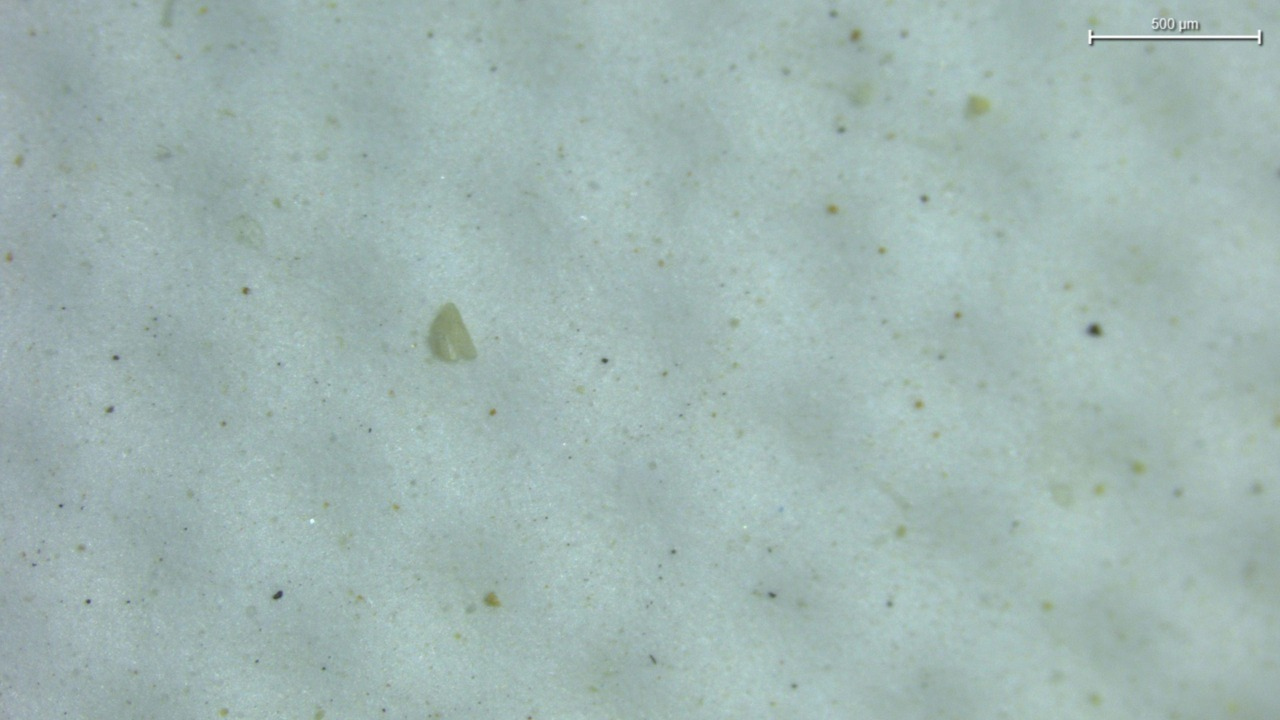microplastic_fragment: (428, 303, 476, 362)
